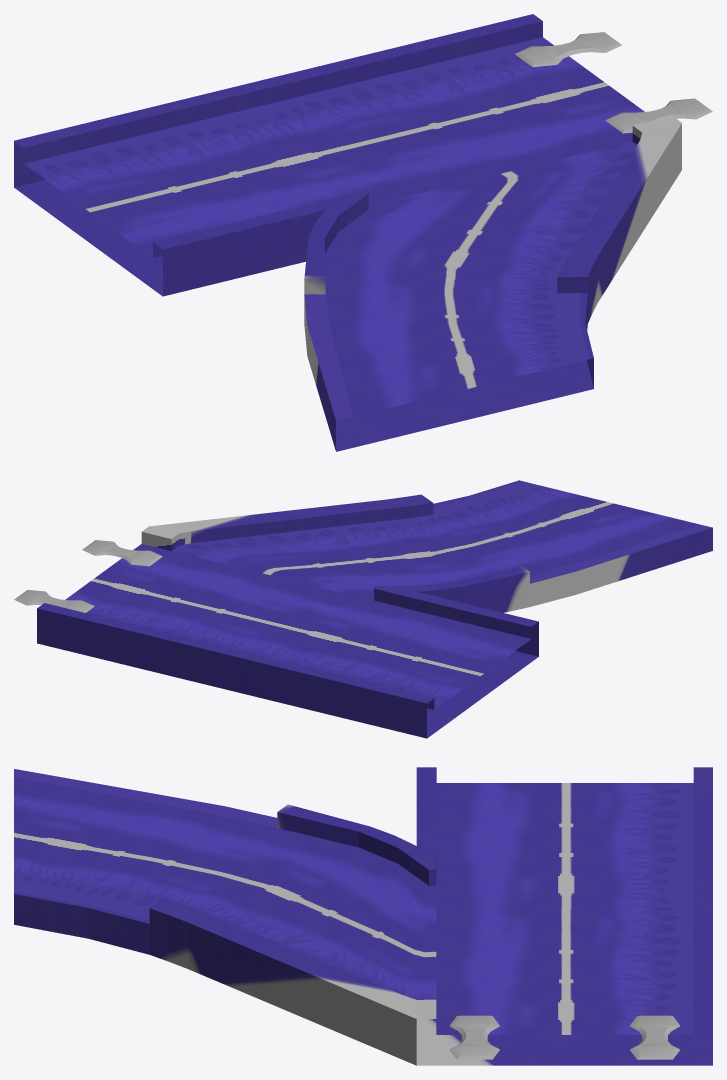
File: PV_Fork_half.fbx
The picture shows the model from 3 angles, top to bottom: view 1: azimuth 30°, elevation 25°; view 2: azimuth 150°, elevation 25°; view 3: azimuth 270°, elevation 25°; orthographic projection. The views are drawn at different scales.
Visible parts, largest first — view 1: FORK, polySurface15; view 2: FORK, polySurface15; view 3: FORK, polySurface15.
Boxes of the visible parts, x1,y1,x2,y2 form: FORK: [14, 14, 681, 451]; polySurface15: [515, 32, 712, 133]; FORK: [37, 480, 712, 738]; polySurface15: [14, 540, 162, 612]; FORK: [14, 767, 712, 1065]; polySurface15: [449, 1015, 680, 1059].
Bounding box in the file's own units: 5530 × 416 × 5615.
